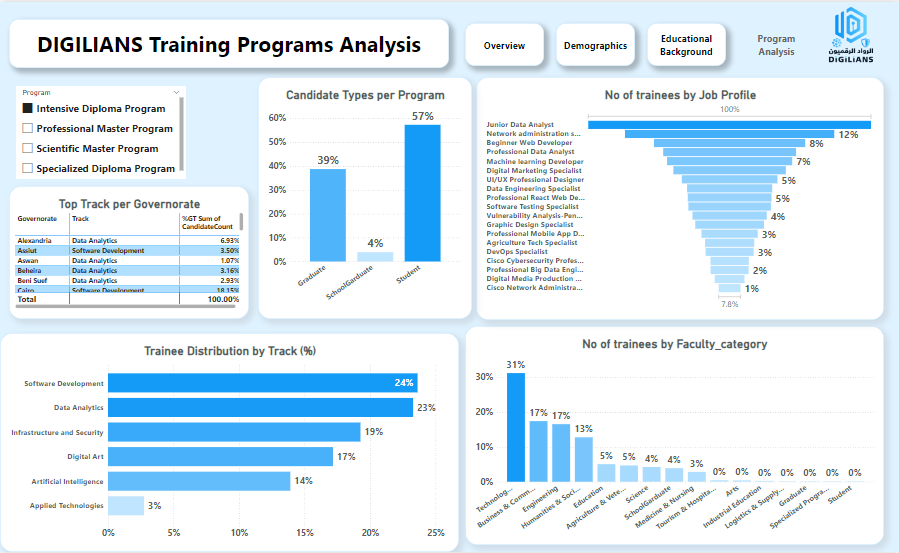

This screenshot's page, from the dashboard's own definition file:
{"tool":"powerbi","page":{"name":"Program Analysis ","canvas":[1800,1100],"ordinal":3},"visuals":[{"type":"clusteredColumnChart","title":"No of trainees by Faculty_category ","fields":{"Category":["Sheet1 (2).Faculty_category"],"Y":["CountNonNull(Sheet1 (2).National Id)"]},"box":[930,647.5,837.5,437.5],"z":0},{"type":"slicer","fields":{"Values":["Sheet1 (2).Program"]},"box":[32,168,340,186],"z":1000},{"type":"funnel","title":"No of trainees by Job Profile","fields":{"Category":["Sheet1 (2).Job Profile"],"Y":["CountNonNull(Sheet1 (2).National Id)"]},"box":[952,150,816,486],"z":2000},{"type":"clusteredColumnChart","title":"Candidate Types per Program","fields":{"Category":["Trainees.Candidate Type"],"Y":["CountNonNull(Sheet1 (2).Candidate Type)"]},"box":[516,150,428,484],"z":3000},{"type":"clusteredBarChart","title":"Trainee Distribution by Track (%)","fields":{"Category":["Trainees.Track"],"Y":["CountNonNull(Trainees.National Id)"]},"box":[0,662.5,917.5,437.5],"z":4000},{"type":"image","box":[1606.7,0,192.4,132.6],"z":5000},{"type":"actionButton","title":"overview","box":[930.4,41.7,158,86],"z":6000},{"type":"actionButton","title":"overview","box":[1111.7,41.7,158,86],"z":7000},{"type":"actionButton","title":"overview","box":[1293.1,41.7,158,86],"z":8000},{"type":"actionButton","title":"overview","box":[1474.4,41.7,158,86],"z":9000},{"type":"shape","box":[18,34,880,98],"z":10000},{"type":"tableEx","title":"Top Track per Governorate","fields":{"Values":["TopTrackPerGovernorate.Governorate","TopTrackPerGovernorate.Track","Sum(TopTrackPerGovernorate.CandidateCount)"]},"box":[18,368,480,266],"z":11000}]}

Visuals, with their boxes in screenshot pixels (x1, y1, x2, y2), scaled from the page's 1800x1100 canvas onto the 899x553 screenshot:
"No of trainees by Faculty_category " clusteredColumnChart: [left=464, top=326, right=883, bottom=545]
slicer - Sheet1 (2).Program: [left=16, top=84, right=186, bottom=178]
"No of trainees by Job Profile" funnel: [left=475, top=75, right=883, bottom=320]
"Candidate Types per Program" clusteredColumnChart: [left=258, top=75, right=471, bottom=319]
"Trainee Distribution by Track (%)" clusteredBarChart: [left=0, top=333, right=458, bottom=552]
image: [left=802, top=0, right=898, bottom=67]
"overview" actionButton: [left=465, top=21, right=544, bottom=64]
"overview" actionButton: [left=555, top=21, right=634, bottom=64]
"overview" actionButton: [left=646, top=21, right=725, bottom=64]
"overview" actionButton: [left=736, top=21, right=815, bottom=64]
shape: [left=9, top=17, right=449, bottom=66]
"Top Track per Governorate" tableEx: [left=9, top=185, right=249, bottom=319]
